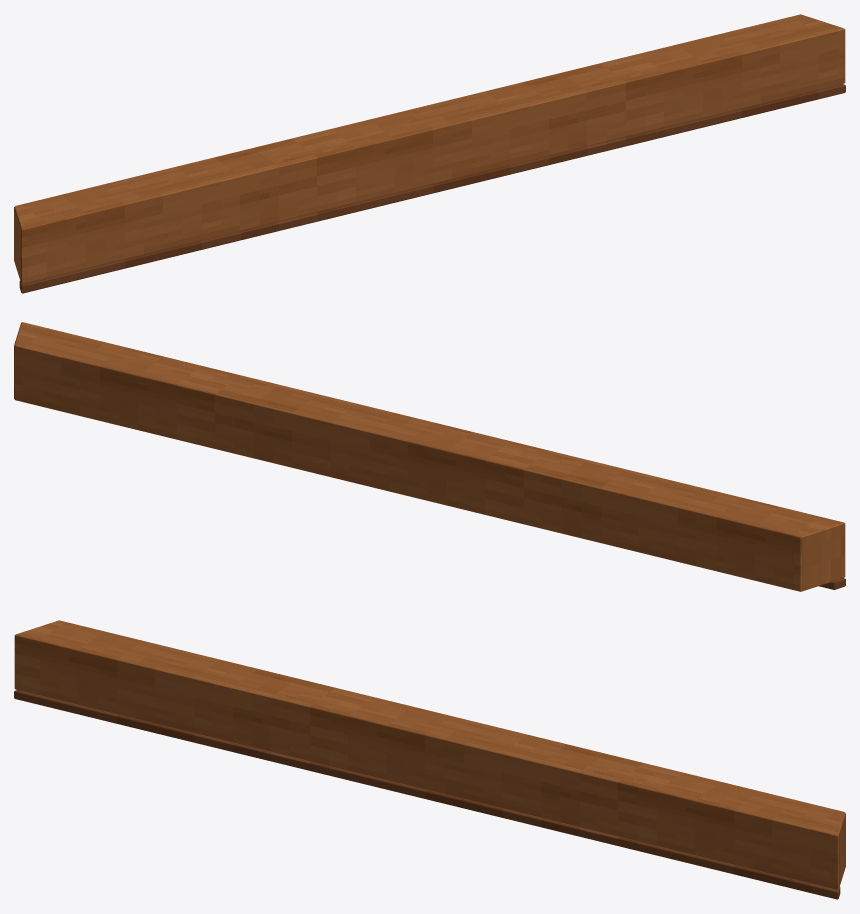
Rendered from Rim-0.glb.
3 views of the same model, one above another, from view 1: azimuth 30°, elevation 25°; view 2: azimuth 150°, elevation 25°; view 3: azimuth 330°, elevation 25° (orthographic).
Visible parts, largest first — view 1: Rim-0; view 2: Rim-0; view 3: Rim-0.
Boxes of the visible parts, box(x1,y1,x2,y2) form: Rim-0: box(14, 14, 845, 293); Rim-0: box(14, 322, 845, 591); Rim-0: box(14, 620, 845, 899).
Size of the model in its own units: 3.34 by 0.25 by 0.189.
Materials: 2 (2 with a texture image).
